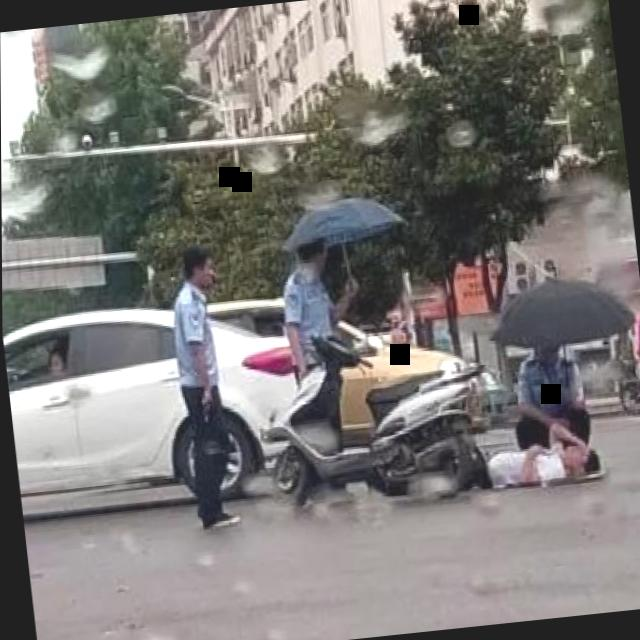Fall-Detected: (459, 415, 616, 495)
